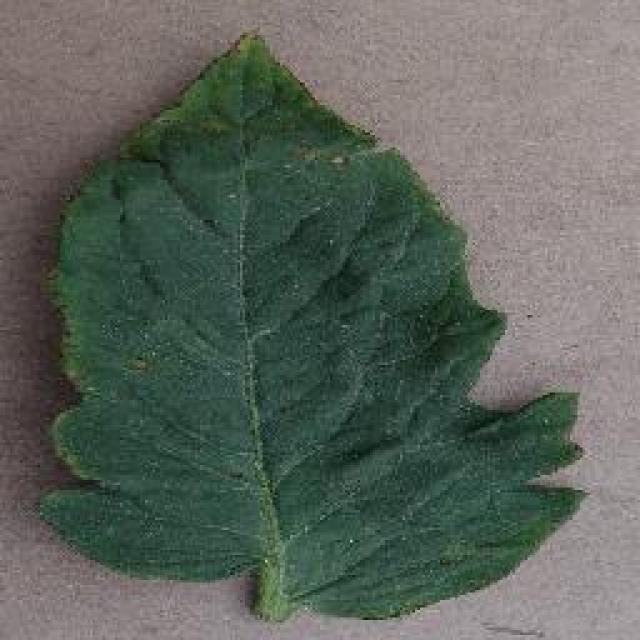Tomato___Bacterial_spot: (34, 32, 593, 626)
